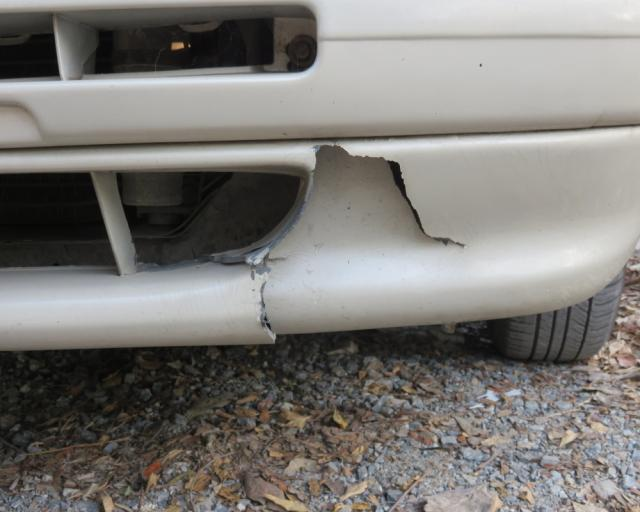crack: (314, 140, 468, 251), (258, 253, 276, 337)
